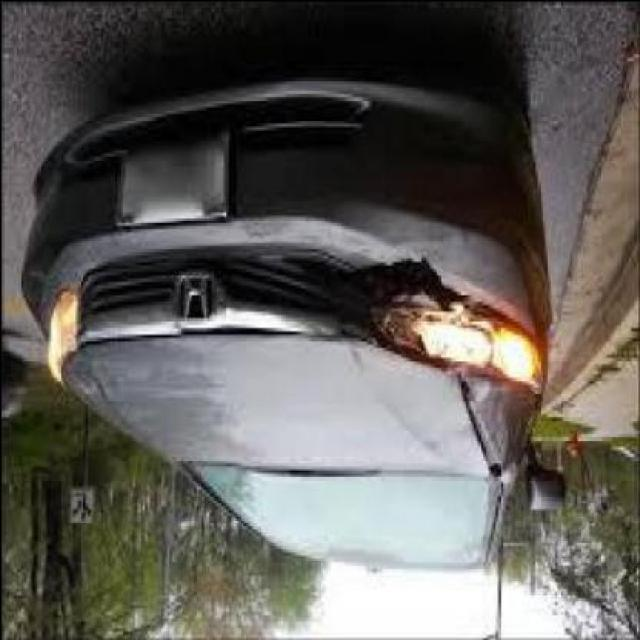damage: (273, 212, 501, 479)
